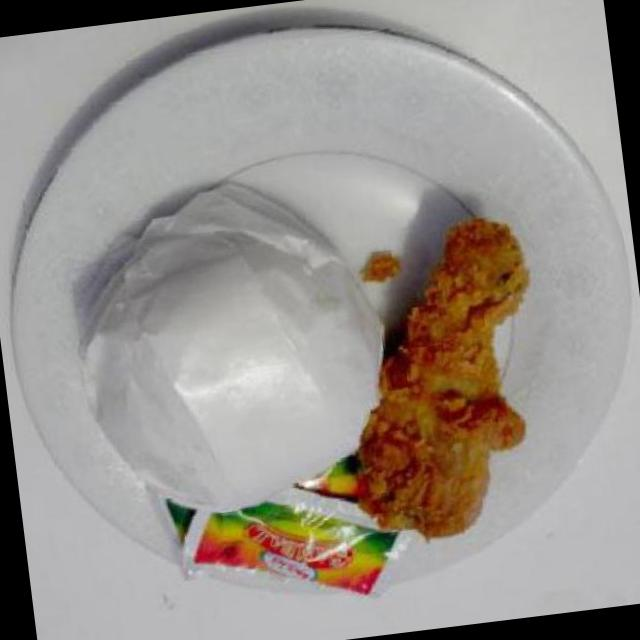Fried Chicken: (356, 215, 529, 539)
